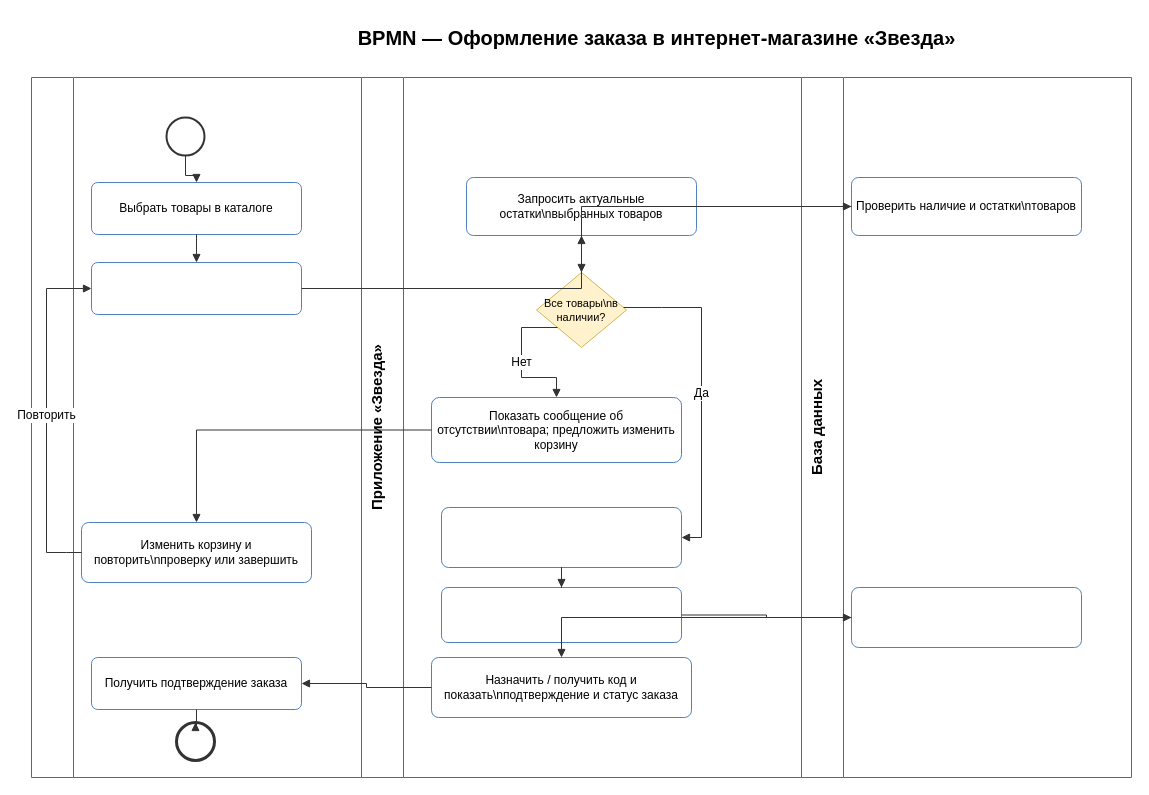
This 1149x795 diagram has some shape labels left out. The shapes that lost their labels are listed below. From the top down, each one's box as (x1, y1, x2, y2) in pixels, then its label:
(90, 262, 302, 314): Перейти к оформлению заказа
(30, 76, 362, 778): Покупатель
(440, 506, 682, 568): Получить пункт выдачи и\nподтверждение покупателя
(440, 586, 682, 642): Сформировать заказ и строки заказа
(850, 586, 1082, 648): Сохранить заказ, строки заказа,\nпункт выдачи и статус
